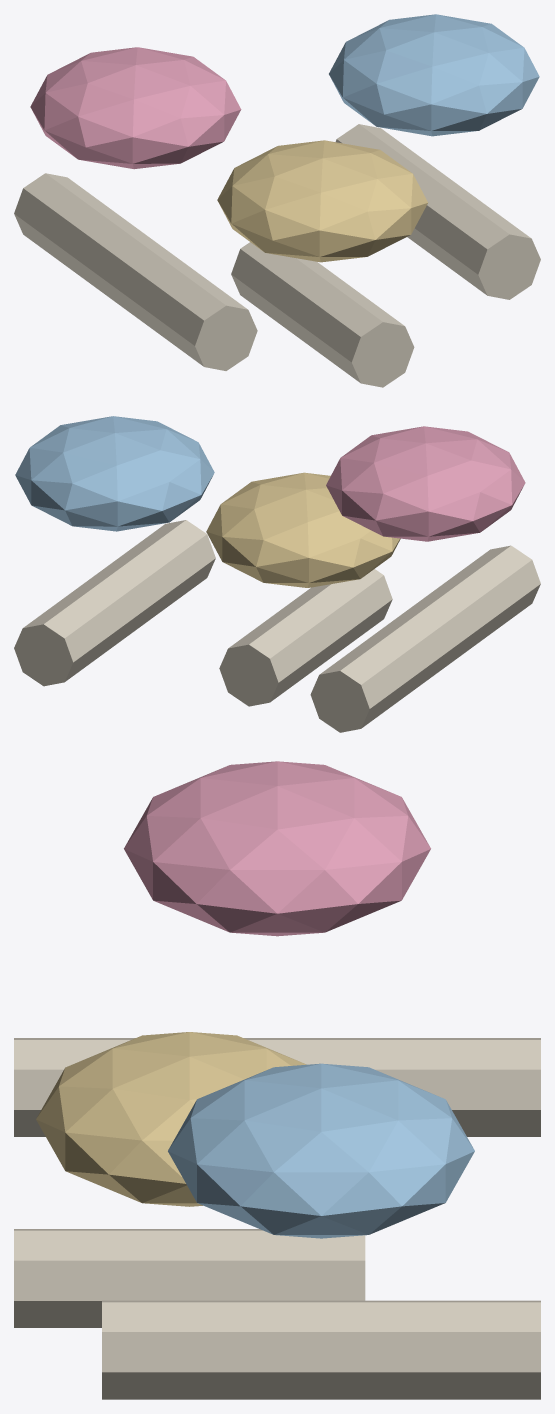
The model's file is mushroom_cluster.glb.
3 renders of one model, top to bottom at view 1: azimuth 30°, elevation 25°; view 2: azimuth 150°, elevation 25°; view 3: azimuth 270°, elevation 25°, orthographic. The views are drawn at different scales.
Visible parts, largest first — view 1: cap1, cap0, cap2, stem0, stem1, stem2; view 2: cap2, cap0, stem0, stem2, cap1, stem1; view 3: stem2, cap2, cap0, stem1, cap1, stem0.
Boxes of the visible parts, x1,y1,x2,y2 form: cap1: [217, 140, 427, 262]; cap0: [30, 47, 241, 169]; cap2: [329, 14, 539, 136]; stem0: [14, 173, 257, 370]; stem1: [231, 242, 414, 387]; stem2: [335, 124, 540, 299]; cap2: [15, 416, 214, 531]; cap0: [326, 426, 525, 541]; stem0: [310, 545, 540, 732]; stem2: [14, 520, 215, 686]; cap1: [206, 472, 400, 587]; stem1: [219, 569, 392, 706]; stem2: [102, 1300, 540, 1399]; cap2: [168, 1063, 474, 1238]; cap0: [124, 761, 430, 936]; stem1: [14, 1229, 365, 1327]; cap1: [36, 1032, 306, 1206]; stem0: [14, 1038, 540, 1136].
Size of the model in its own units: 1.9 by 1.08 by 1.2.
